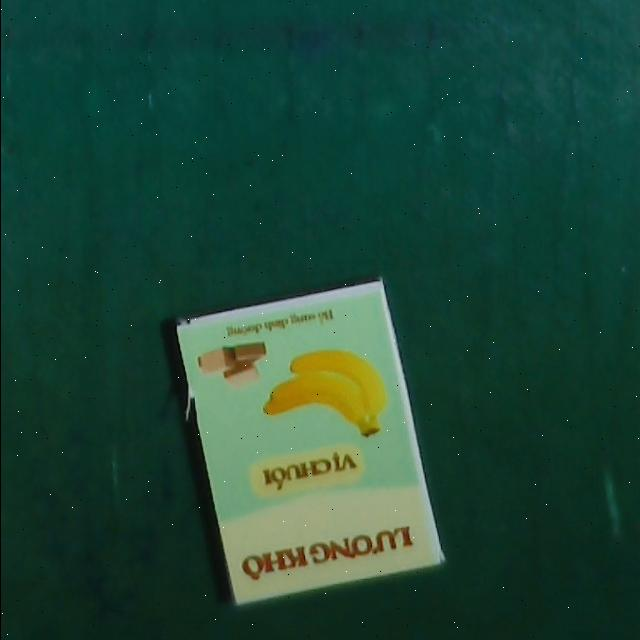chuoi: (168, 274, 445, 614)
